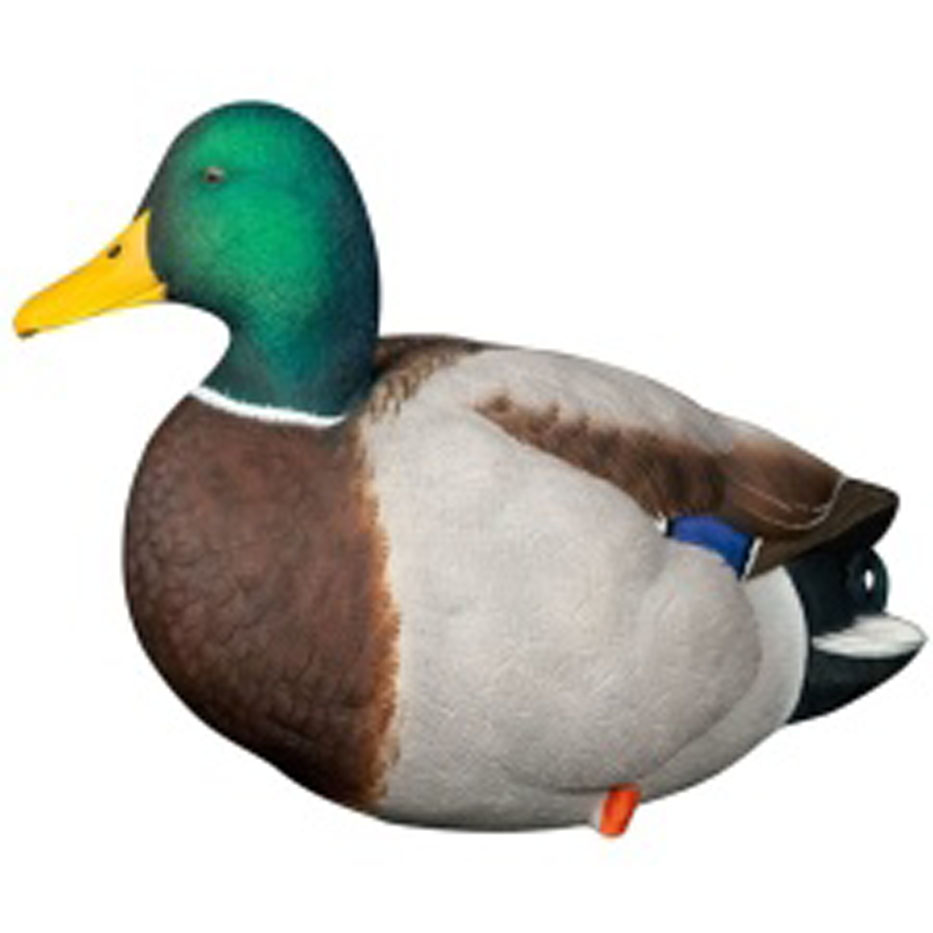Mencari Makan di Lumpur: (14, 192, 176, 367)
